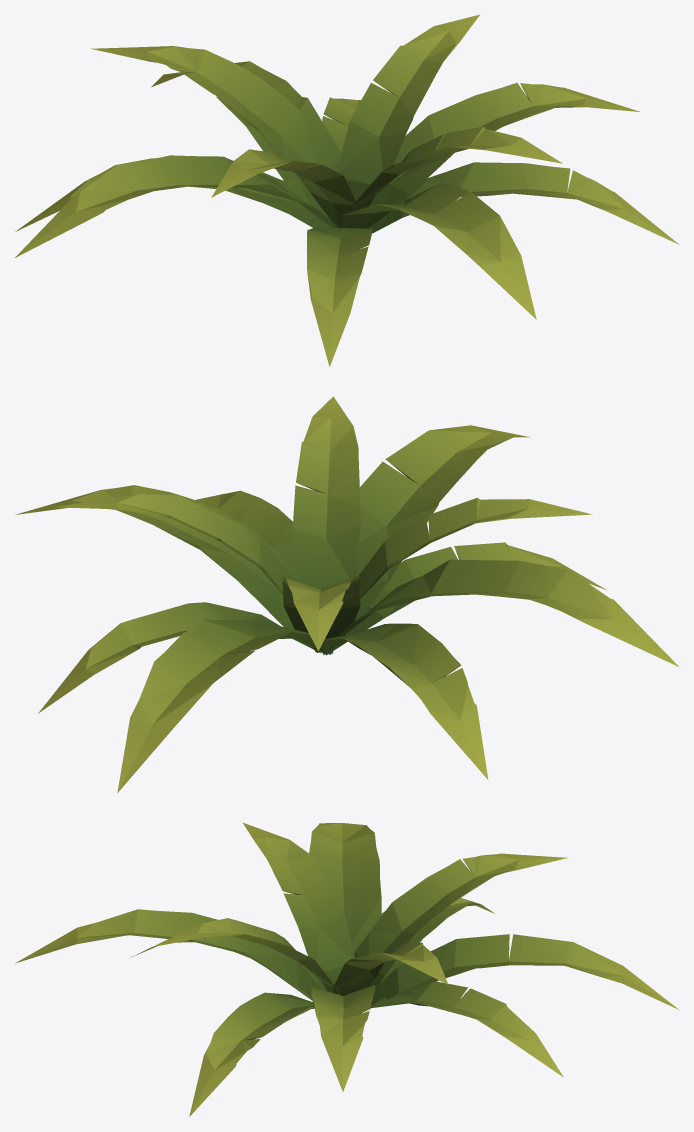
Rendered from Plant_03.fbx.
3 renders of one model, top to bottom at view 1: azimuth 30°, elevation 25°; view 2: azimuth 150°, elevation 25°; view 3: azimuth 270°, elevation 25°, orthographic. The views are drawn at different scales.
Parts seen in each view (by area): view 1: Plant_03; view 2: Plant_03; view 3: Plant_03.
Part boxes in pixels (x1,y1,x2,y2): Plant_03: (15, 14, 679, 366); Plant_03: (15, 396, 679, 792); Plant_03: (15, 822, 678, 1116).
Bounding box in the file's own units: 140 × 30.32 × 150.
